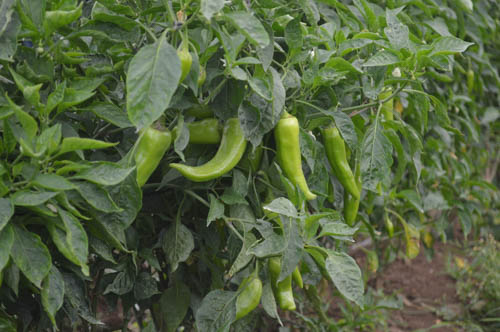ChiliPepper: (170, 119, 250, 184), (275, 118, 315, 196), (323, 127, 361, 198), (136, 129, 168, 190), (232, 273, 266, 322), (270, 260, 297, 311), (344, 157, 363, 229), (172, 119, 218, 146)
